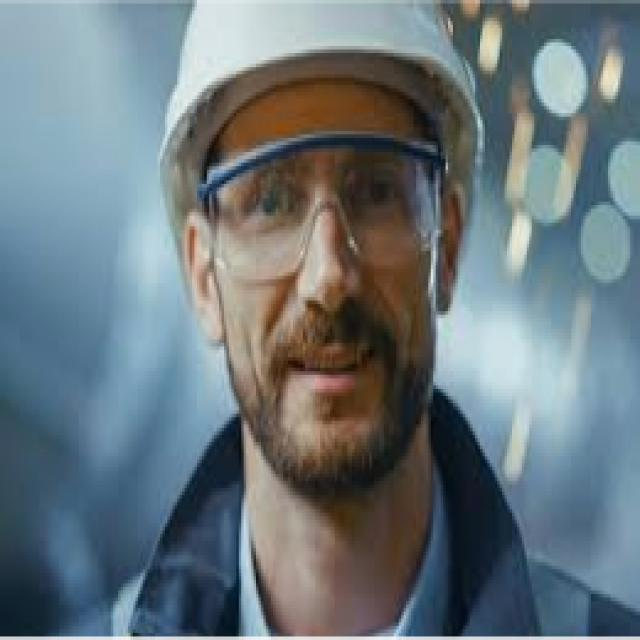glasses: (207, 122, 453, 272)
